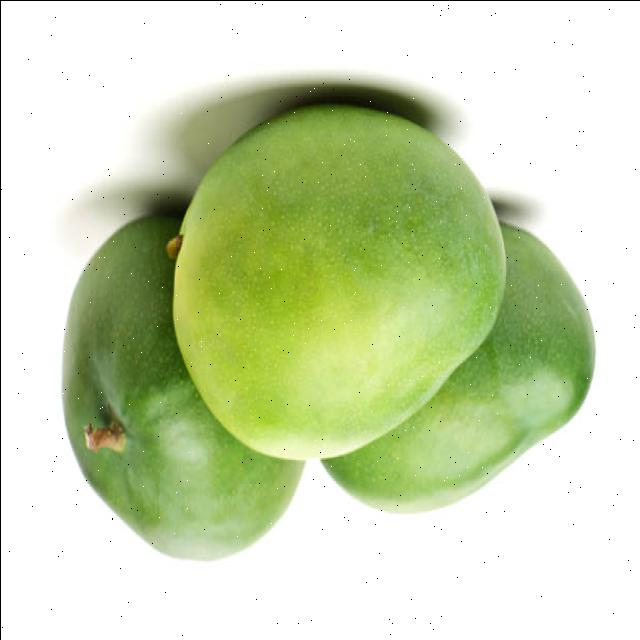mango: (172, 104, 504, 458), (61, 215, 302, 559), (321, 224, 594, 512)
